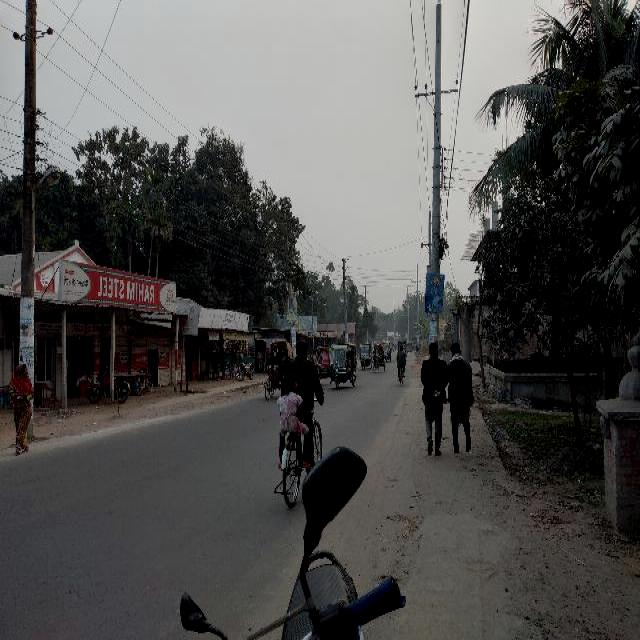motorcycle: (263, 334, 294, 402), (85, 366, 134, 406), (329, 342, 358, 389), (314, 338, 331, 381), (234, 352, 256, 380), (373, 342, 386, 374), (361, 340, 374, 370), (382, 341, 392, 363), (398, 338, 408, 358), (407, 340, 413, 352), (393, 341, 397, 351)
